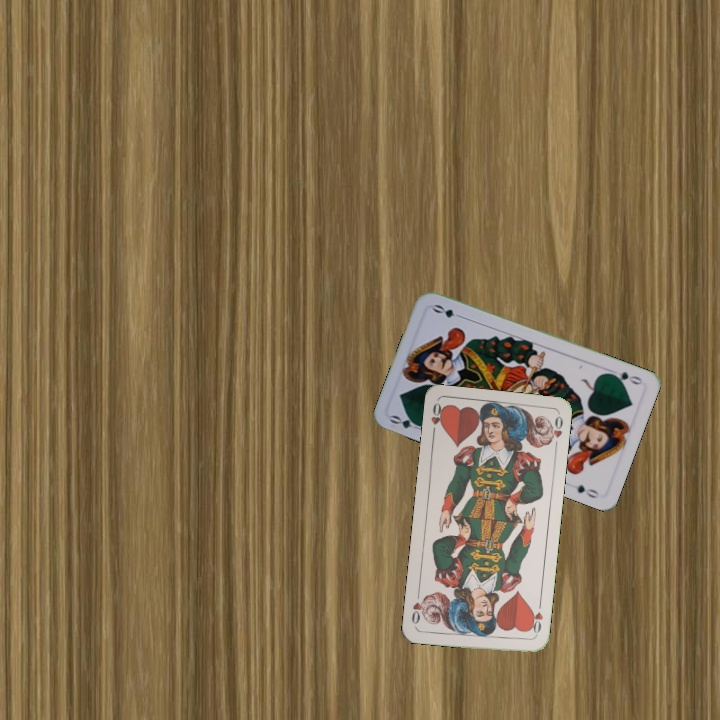GO: (386, 411, 427, 434), (605, 367, 644, 387)
HO: (526, 599, 546, 639), (427, 399, 447, 439)
